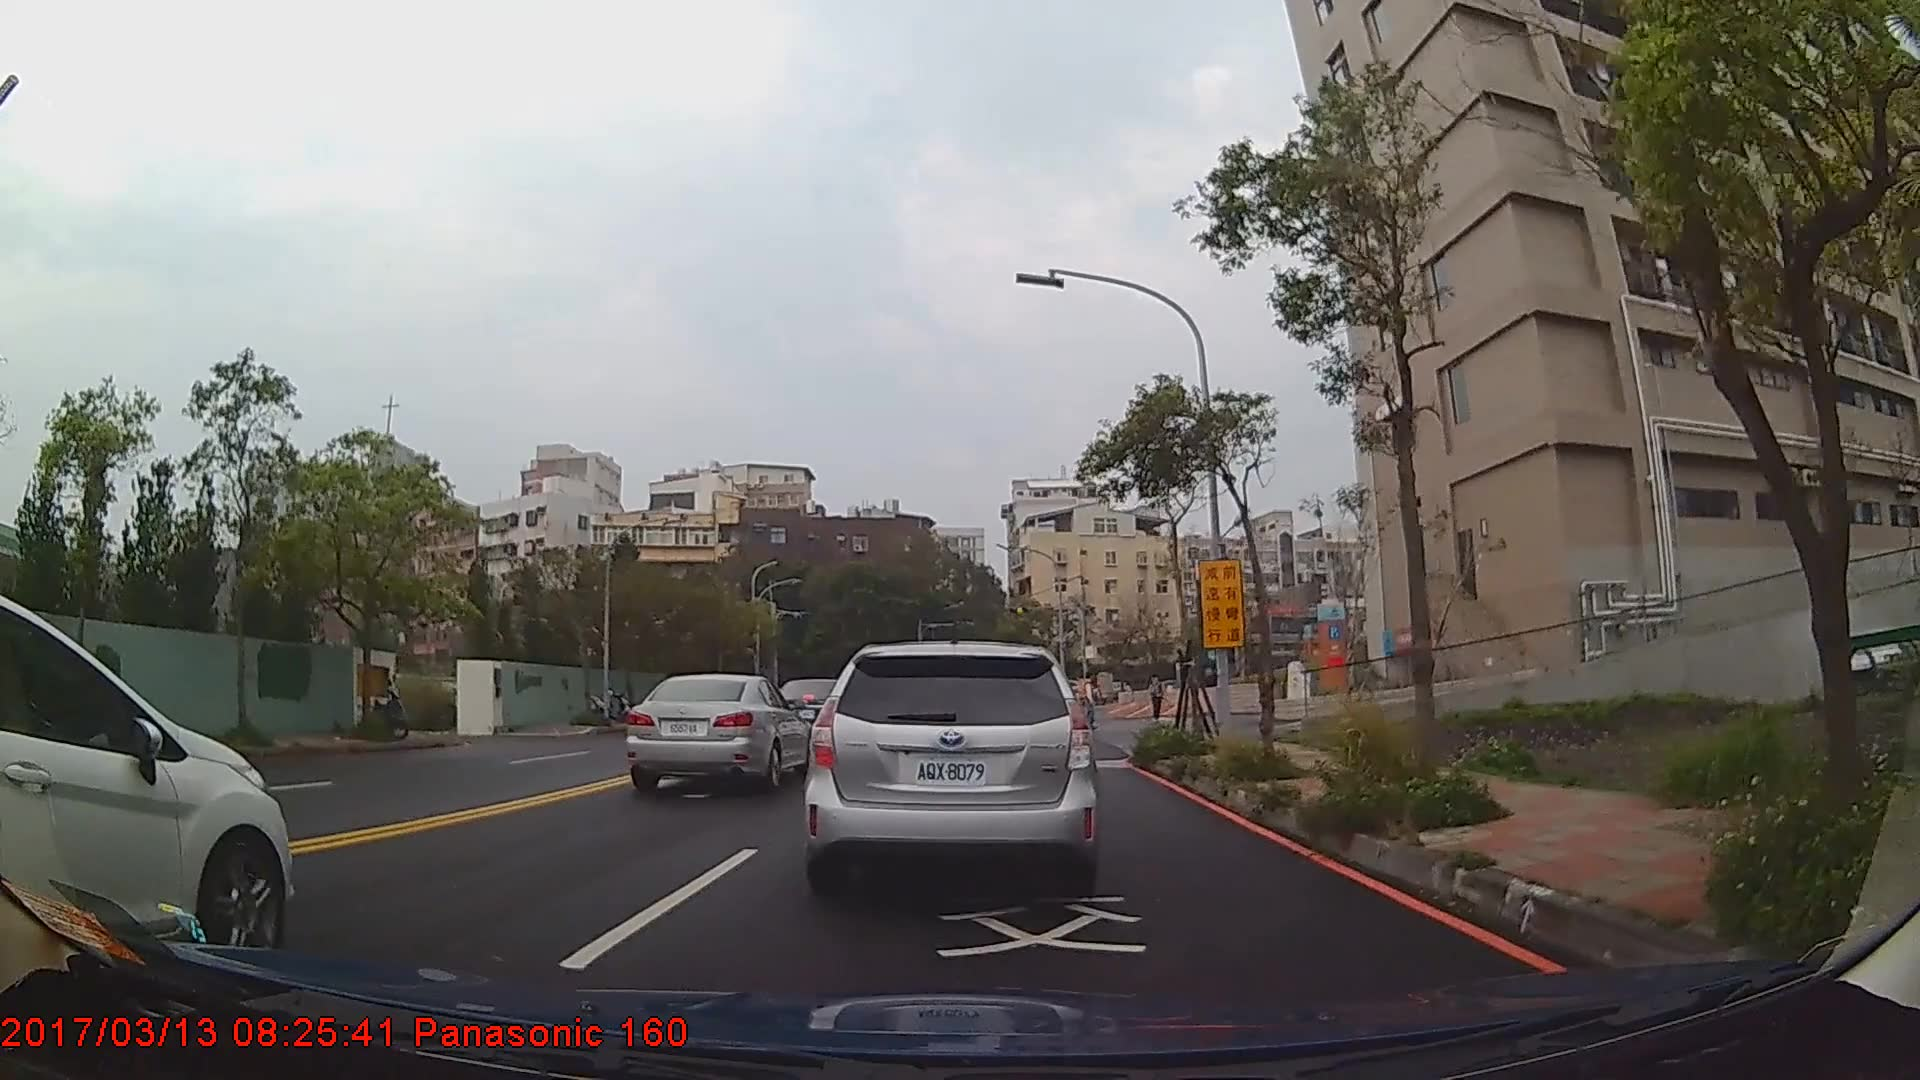pedestrian: (1080, 669, 1102, 733)
vehicle: (0, 594, 292, 964), (803, 636, 1103, 900), (623, 673, 812, 790)
